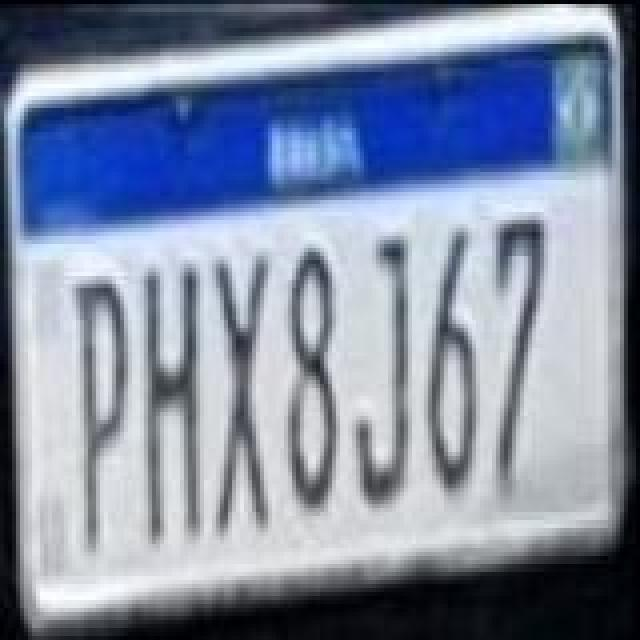6: (426, 228, 482, 492)
7: (488, 214, 548, 490)
8: (282, 240, 338, 516)
H: (144, 258, 208, 550)
J: (350, 230, 414, 514)
P: (74, 270, 134, 554)
X: (208, 250, 272, 542)
